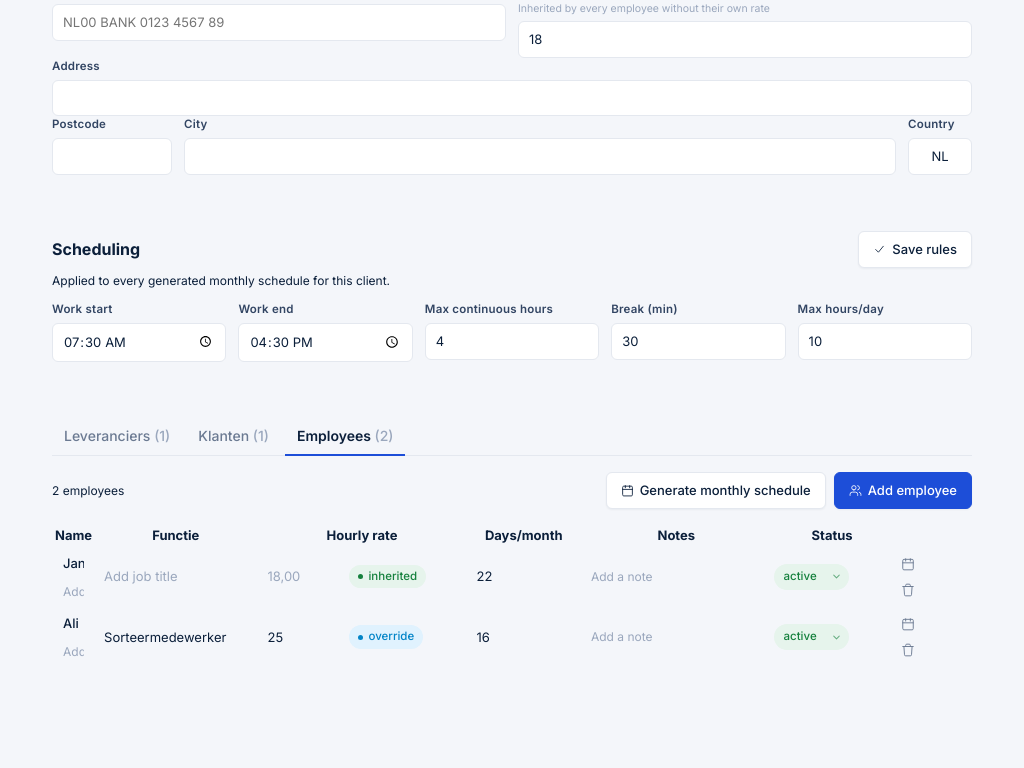
client detail — employees tab › opens the schedule generator, pre-filled from the employee's default
(page scrolled)
Click the button "Generate monthly schedule" at (716, 490), box [606, 472, 826, 509]
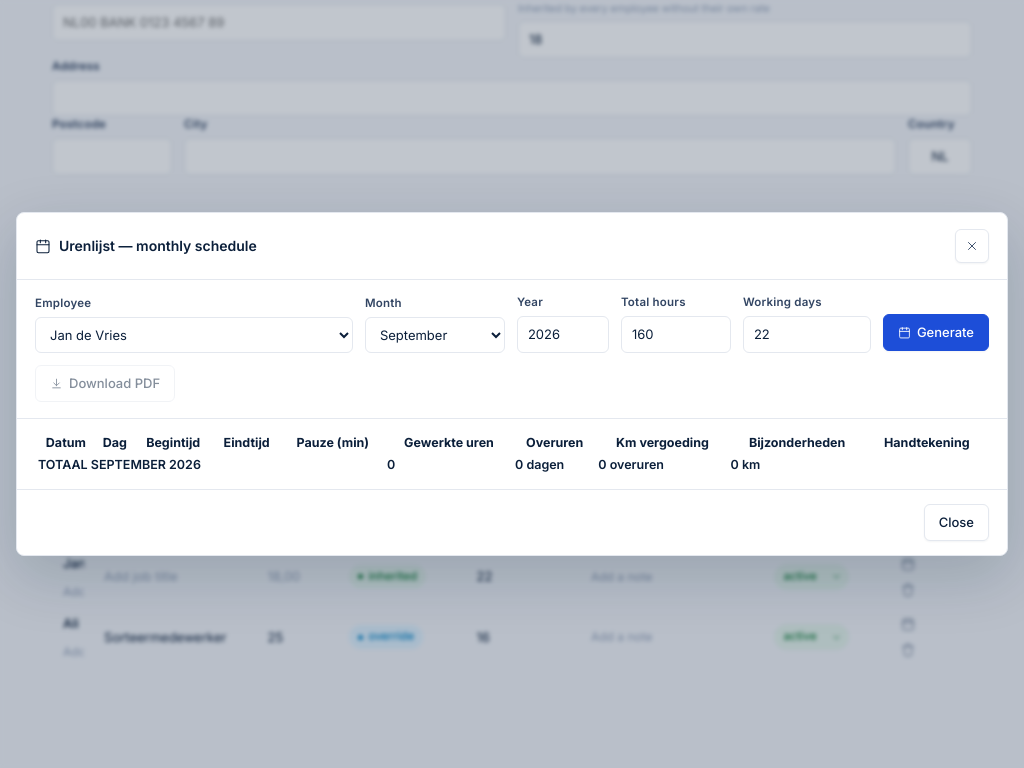
Check: the dialog named "Generate monthly schedule" is shown, box [16, 212, 1008, 556]
Check: the number field labelled "Working days" holds "22", box [743, 316, 871, 353]
